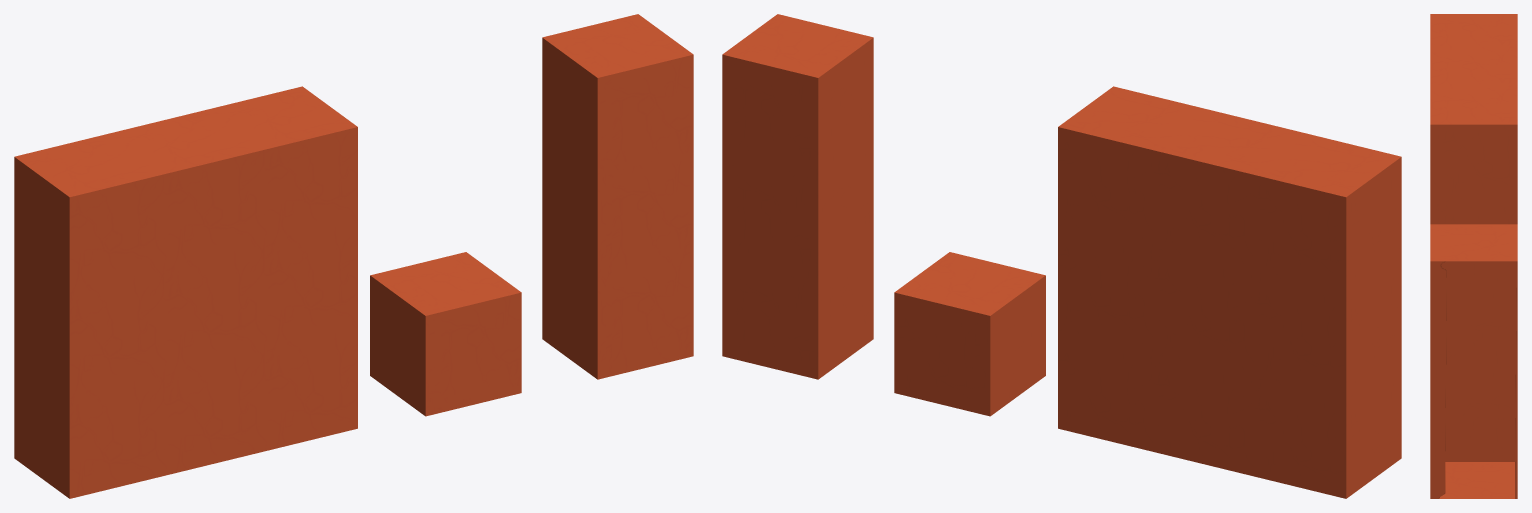
Rendered from Rocky wall.fbx.
3 renders of one model, left to right at view 1: azimuth 30°, elevation 25°; view 2: azimuth 150°, elevation 25°; view 3: azimuth 270°, elevation 25°, orthographic. The views are drawn at different scales.
Visible parts, largest first — view 1: Cube, Cube.001, Cube.004; view 2: Cube, Cube.001, Cube.004; view 3: Cube.001, Cube.
Part boxes in pixels (bbox=[...]): Cube: bbox=[14, 86, 357, 498]; Cube.001: bbox=[542, 14, 693, 379]; Cube.004: bbox=[370, 252, 521, 416]; Cube: bbox=[1058, 86, 1401, 498]; Cube.001: bbox=[722, 14, 873, 379]; Cube.004: bbox=[894, 252, 1045, 416]; Cube.001: bbox=[1430, 224, 1517, 498]; Cube: bbox=[1430, 14, 1517, 224].
Size of the model in its own units: 1299 by 619 by 200.
